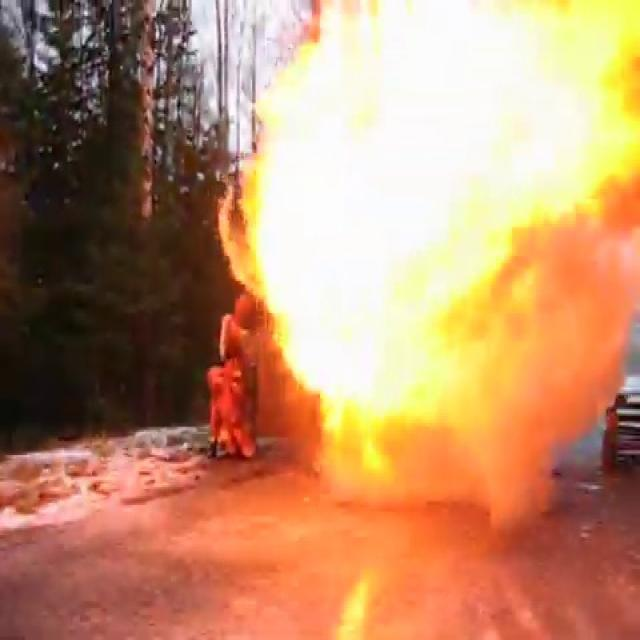Fire: (228, 0, 640, 450)
